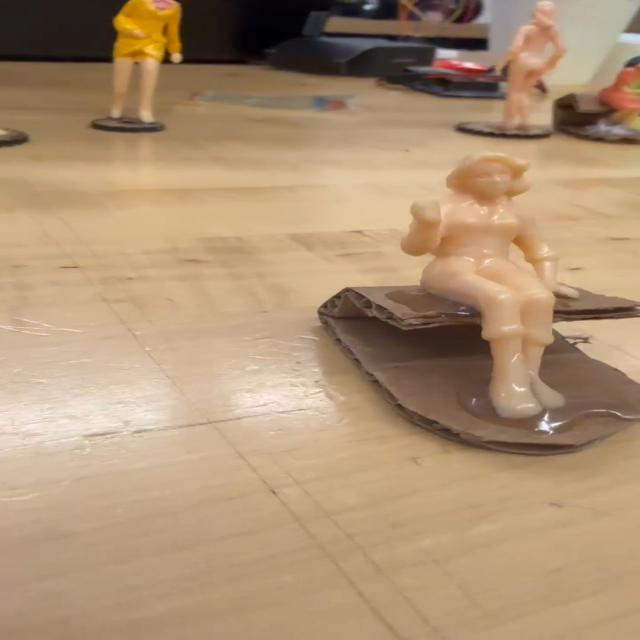Unauthorized: (398, 146, 569, 454)
